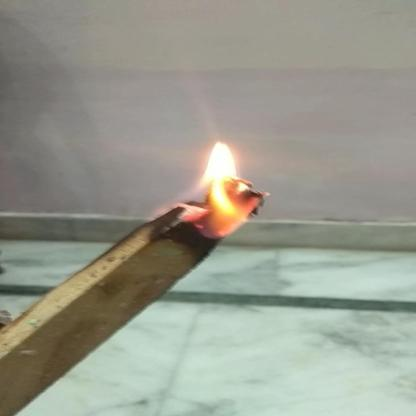fire: (151, 136, 277, 240)
